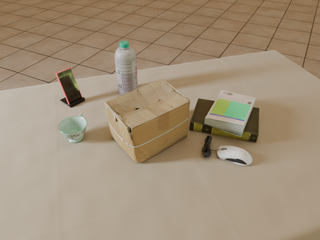book: (190, 98, 259, 142), (205, 90, 256, 136)
bottle: (115, 41, 138, 95)
box: (104, 79, 190, 163)
cup: (58, 114, 87, 142)
mouse: (217, 146, 252, 165)
phone: (56, 68, 82, 104)
